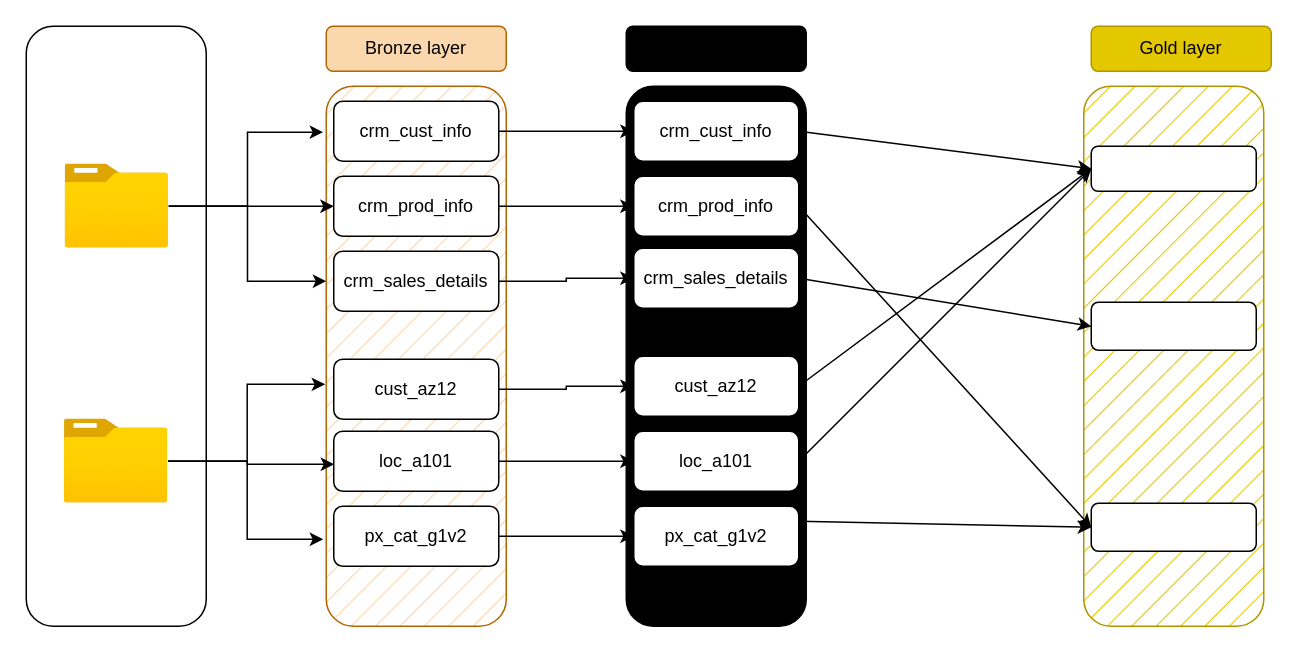
The diagram is 1298 pixels wide and 653 high, and some of its shapes have lost their labels. Here are the shapes that lost their labels. From the top down, the box of each, then its label:
(1090, 145, 1256, 191): dim_customers
(64, 164, 168, 248): CRM
(1090, 301, 1256, 350): fact_orders
(64, 418, 167, 502): ERP
(1090, 502, 1256, 551): dim_products
